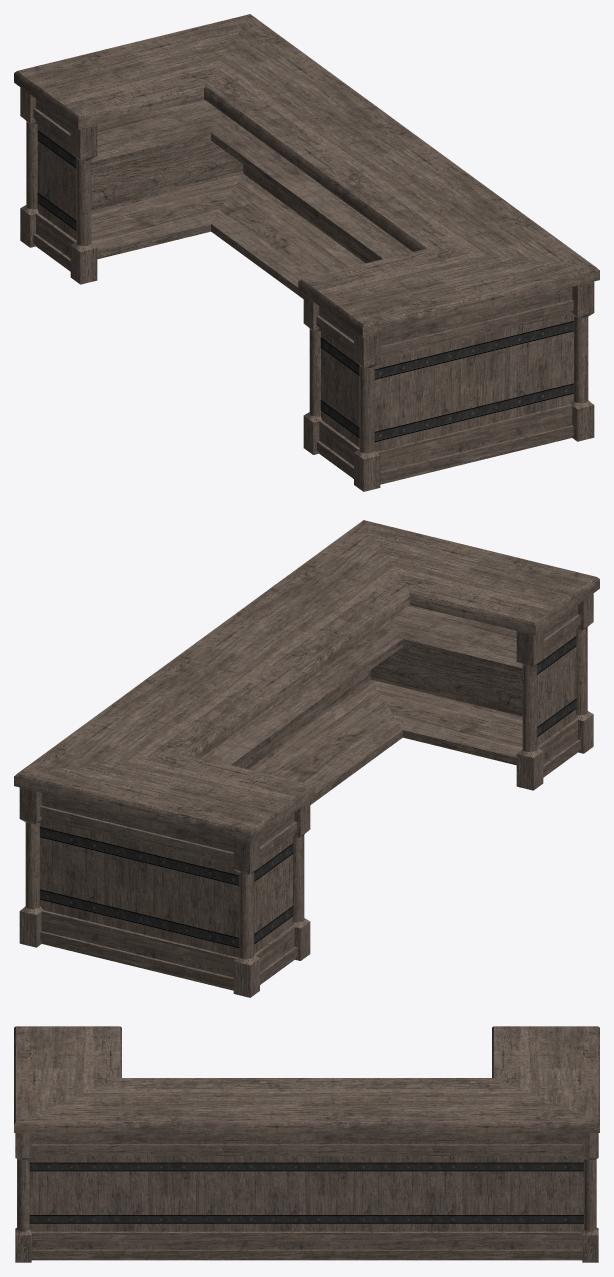
File: mw_bar_02_03.FBX
The picture shows the model from 3 angles, top to bottom: view 1: azimuth 30°, elevation 25°; view 2: azimuth 150°, elevation 25°; view 3: azimuth 270°, elevation 25°; orthographic projection. The views are drawn at different scales.
Parts seen in each view (by area): view 1: mw_bar_02_03; view 2: mw_bar_02_03; view 3: mw_bar_02_03.
Part boxes in pixels (x1=…): mw_bar_02_03: x1=14, y1=14, x2=599, y2=491; mw_bar_02_03: x1=14, y1=520, x2=599, y2=997; mw_bar_02_03: x1=14, y1=1026, x2=599, y2=1262.
Size of the model in its own units: 179 by 122 by 455.
